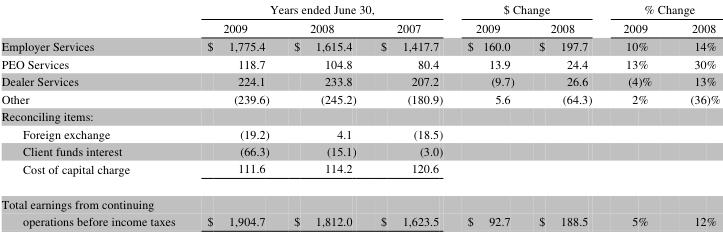table: (0, 0, 719, 228)
table column: (0, 0, 190, 228), (190, 0, 281, 228), (367, 0, 454, 228), (281, 0, 367, 228), (526, 0, 606, 228), (454, 0, 526, 228), (606, 0, 670, 228), (670, 0, 719, 228)
table column header: (0, 0, 719, 36)
table projected row header: (0, 185, 719, 211), (0, 106, 719, 124)
table row: (0, 159, 719, 185), (0, 185, 719, 211), (0, 17, 719, 36), (0, 36, 719, 54), (0, 71, 719, 89), (0, 106, 719, 124), (0, 141, 719, 159), (0, 0, 719, 17), (0, 54, 719, 71), (0, 89, 719, 106), (0, 124, 719, 141), (0, 211, 719, 228)
table spanning cell: (190, 0, 454, 17), (454, 0, 606, 17), (606, 0, 719, 17)
